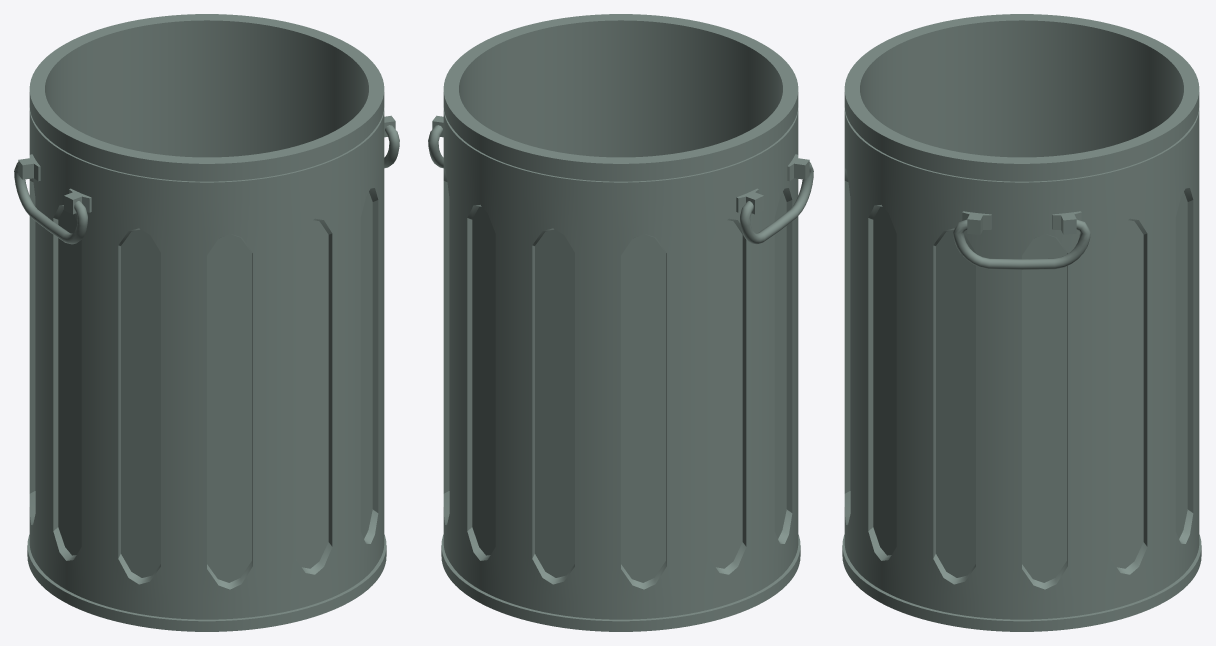
File: bin_body.glb
3 renders of one model, left to right at view 1: azimuth 30°, elevation 25°; view 2: azimuth 150°, elevation 25°; view 3: azimuth 270°, elevation 25°, orthographic.
Parts seen in each view (by area): view 1: KOva; view 2: KOva; view 3: KOva.
Part boxes in pixels (<box>): KOva: <box>14,14,399,631</box>; KOva: <box>428,14,813,631</box>; KOva: <box>842,14,1201,631</box>.
Size of the model in its own units: 1.36 by 1.86 by 1.3.
1 material, 1 textured.
